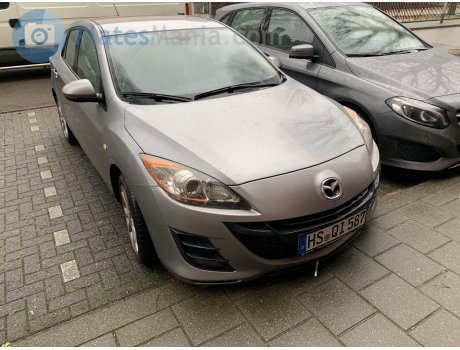License Plates: (300, 211, 372, 243)
